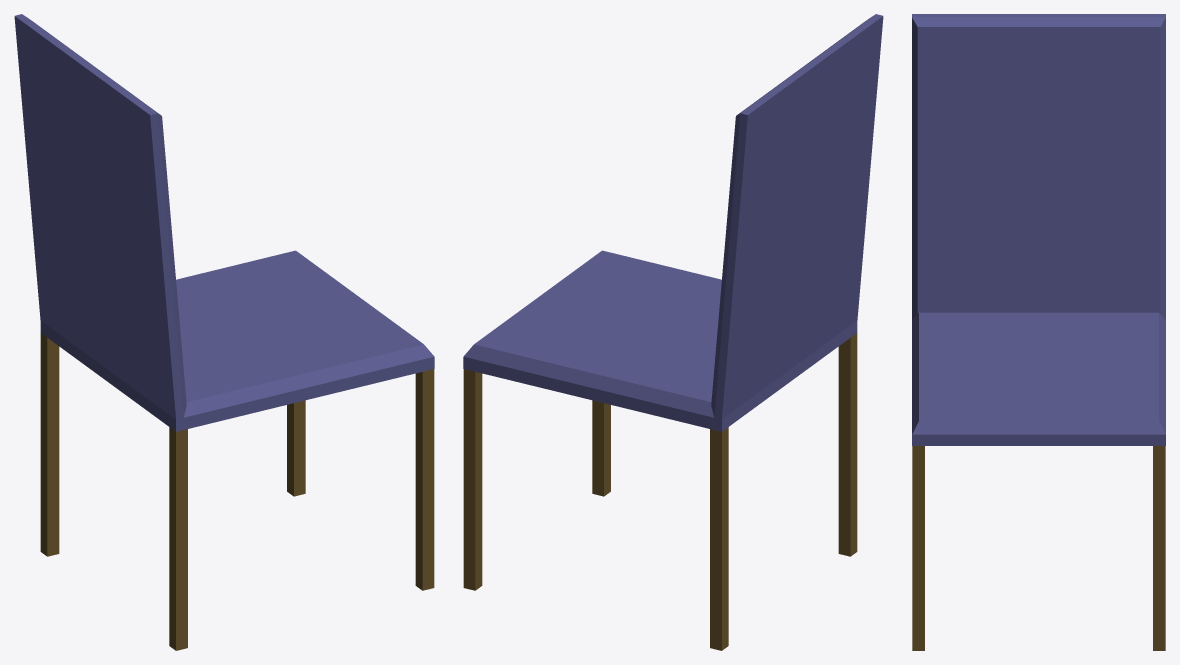
Rendered from Chair.glb.
3 views of the same model, side by side, from view 1: azimuth 30°, elevation 25°; view 2: azimuth 150°, elevation 25°; view 3: azimuth 270°, elevation 25° (orthographic). The views are drawn at different scales.
Visible parts, largest first — view 1: Cube, Cube.001; view 2: Cube, Cube.001; view 3: Cube, Cube.001.
Part boxes in pixels (left/top/right/bottom): Cube: left=14, top=14, right=434, bottom=431; Cube.001: left=40, top=333, right=434, bottom=650; Cube: left=463, top=14, right=883, bottom=431; Cube.001: left=463, top=333, right=857, bottom=650; Cube: left=912, top=14, right=1165, bottom=445; Cube.001: left=912, top=446, right=1165, bottom=650.
Bounding box in the file's own units: 0.6054 × 1.1 × 0.5.
